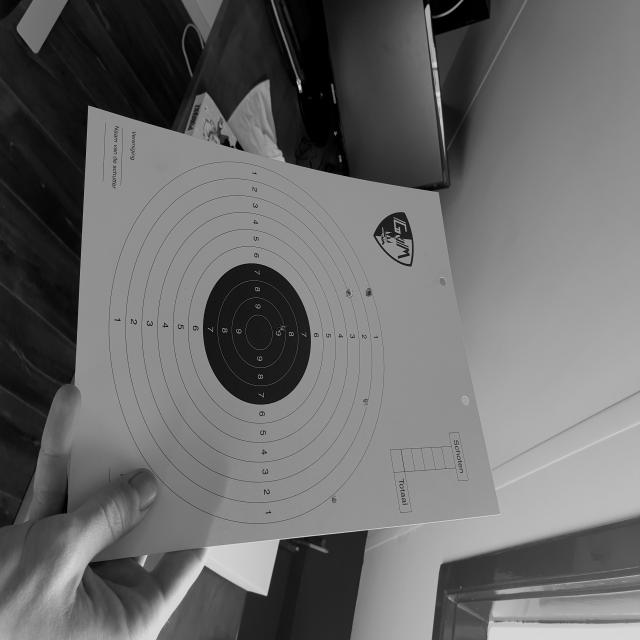0: (331, 494, 338, 505)
1: (365, 286, 373, 298)
2: (362, 397, 370, 408)
3: (346, 288, 354, 301)
9: (275, 322, 289, 337)
Target: (109, 160, 384, 524)
black_contour: (202, 262, 310, 406)
